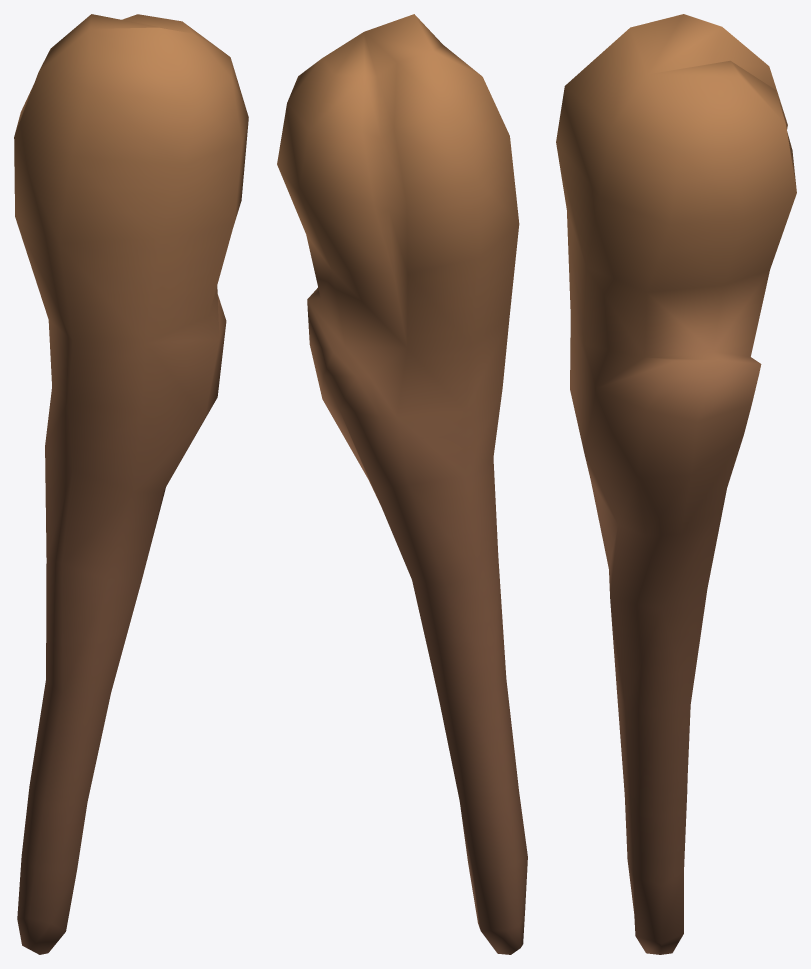
Rendered from Club.fbx.
The picture shows the model from 3 angles, left to right: view 1: azimuth 30°, elevation 25°; view 2: azimuth 150°, elevation 25°; view 3: azimuth 270°, elevation 25°; orthographic projection. The views are drawn at different scales.
Visible parts, largest first — view 1: Cudgel; view 2: Cudgel; view 3: Cudgel.
Boxes of the visible parts, box(x1,y1,x2,y2) form: Cudgel: box(14, 14, 248, 954); Cudgel: box(277, 14, 527, 954); Cudgel: box(556, 14, 796, 954).
Bounding box in the file's own units: 0.2489 × 0.9285 × 0.2068.
